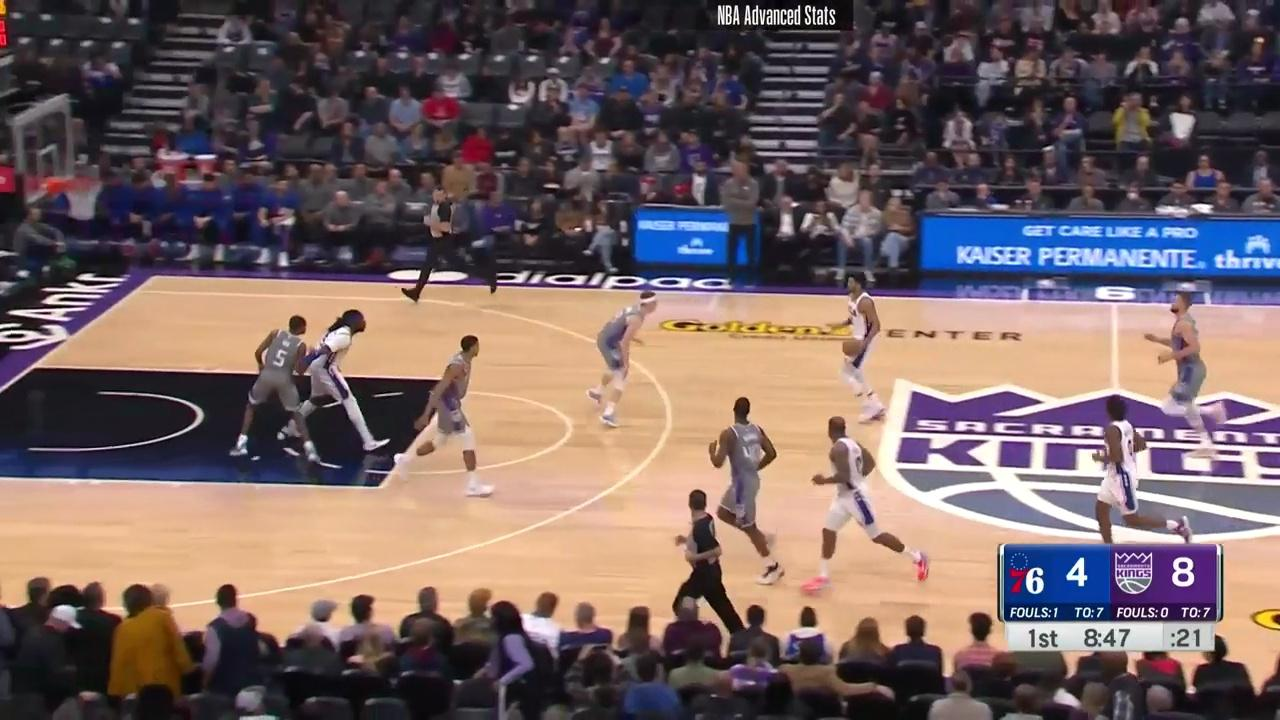Backboard: (11, 92, 79, 212)
Basket: (59, 174, 104, 222)
Person: (810, 417, 934, 594), (1083, 403, 1209, 554), (385, 329, 494, 498), (1135, 289, 1219, 456), (709, 394, 784, 576), (236, 310, 320, 459), (300, 306, 376, 460), (667, 492, 747, 627), (586, 289, 659, 431), (836, 270, 895, 423)
Referee: (409, 184, 501, 305)
